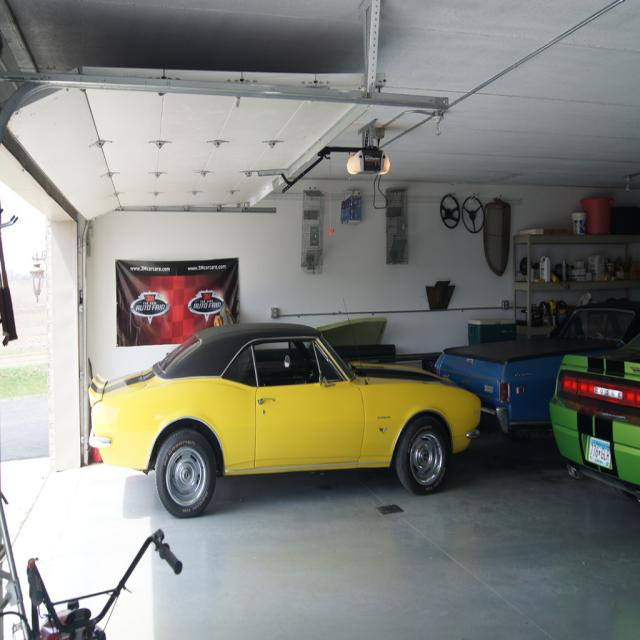car: (80, 311, 482, 517)
